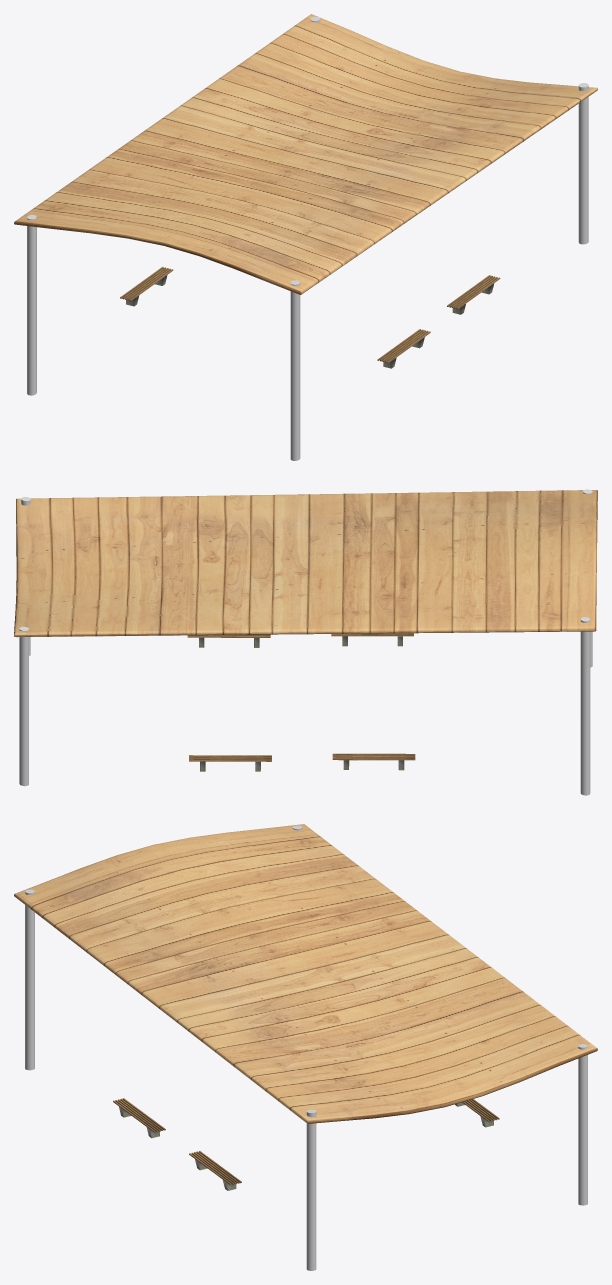
Rendered from zona8 parte4.fbx.
The picture shows the model from 3 angles, top to bottom: view 1: azimuth 30°, elevation 25°; view 2: azimuth 150°, elevation 25°; view 3: azimuth 270°, elevation 25°; orthographic projection.
Visible parts, largest first — view 1: Cube.041, Cube.042; view 2: Cube.041, Cube.042; view 3: Cube.041, Cube.042.
Boxes of the visible parts, x1,y1,x2,y2 form: Cube.041: (14, 14, 597, 460); Cube.042: (120, 266, 500, 368); Cube.041: (14, 489, 597, 795); Cube.042: (187, 633, 415, 771); Cube.041: (14, 824, 597, 1270); Cube.042: (113, 1098, 499, 1190).
Size of the model in its own units: 2995 by 925 by 2571.
Materials: 3 (2 with a texture image).
